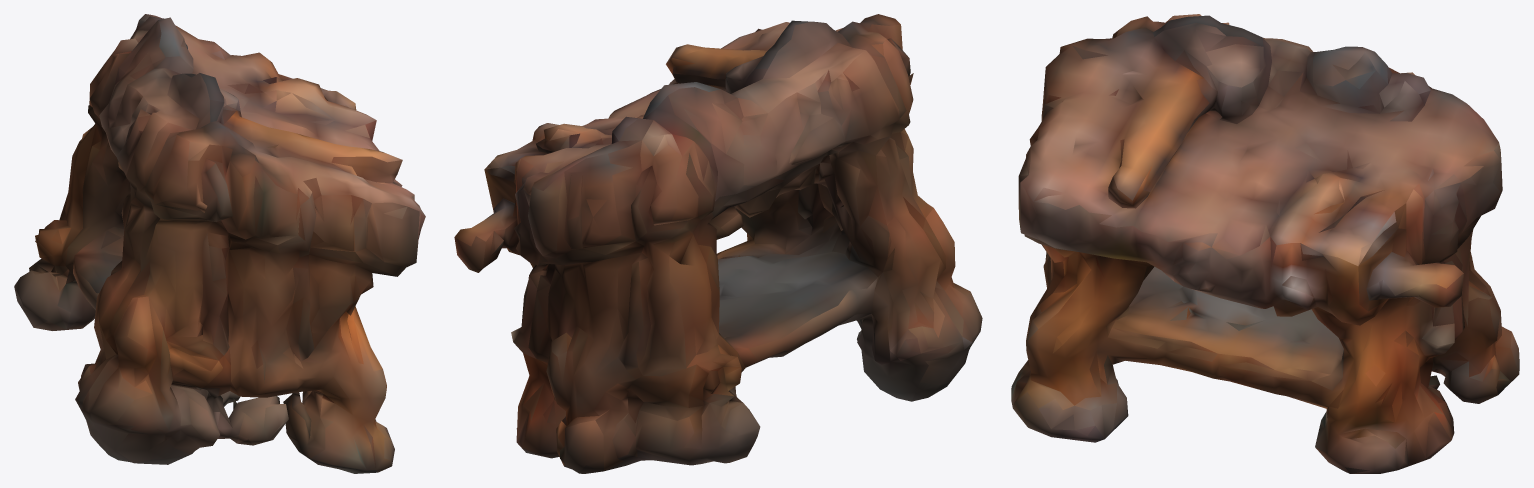
Rendered from workbench.glb.
The picture shows the model from 3 angles, left to right: view 1: azimuth 30°, elevation 25°; view 2: azimuth 150°, elevation 25°; view 3: azimuth 270°, elevation 25°; orthographic projection. The views are drawn at different scales.
Visible parts, largest first — view 1: model; view 2: model; view 3: model.
Boxes of the visible parts, x1,y1,x2,y2 form: model: (14,14,425,473); model: (454,14,982,473); model: (1011,14,1519,473).
Bounding box in the file's own units: 1.35 × 1.3 × 1.59.
Materials: 1 (1 with a texture image).
